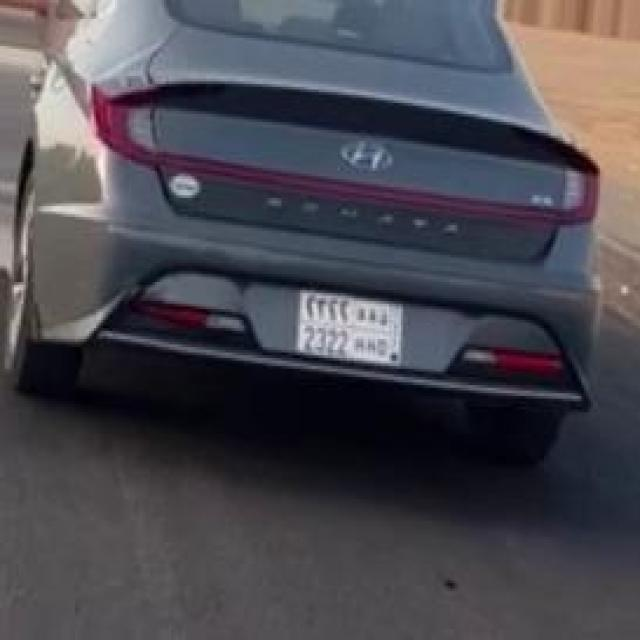Car-plate: (289, 273, 420, 381)
